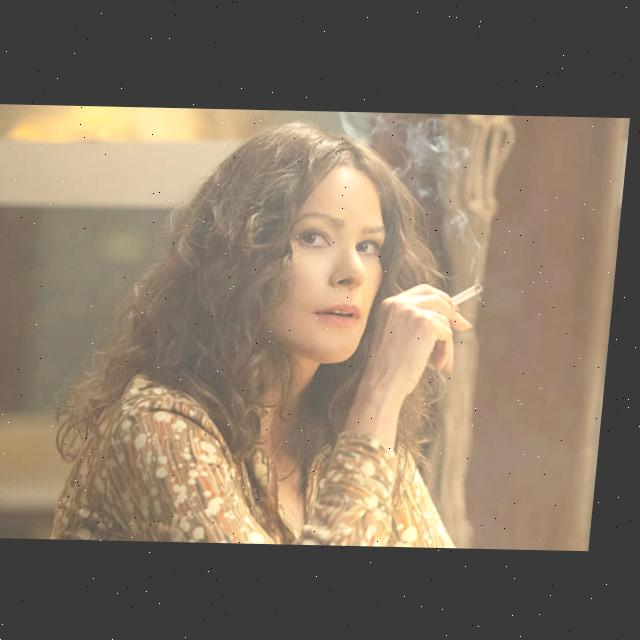cigarette: (452, 279, 489, 304)
